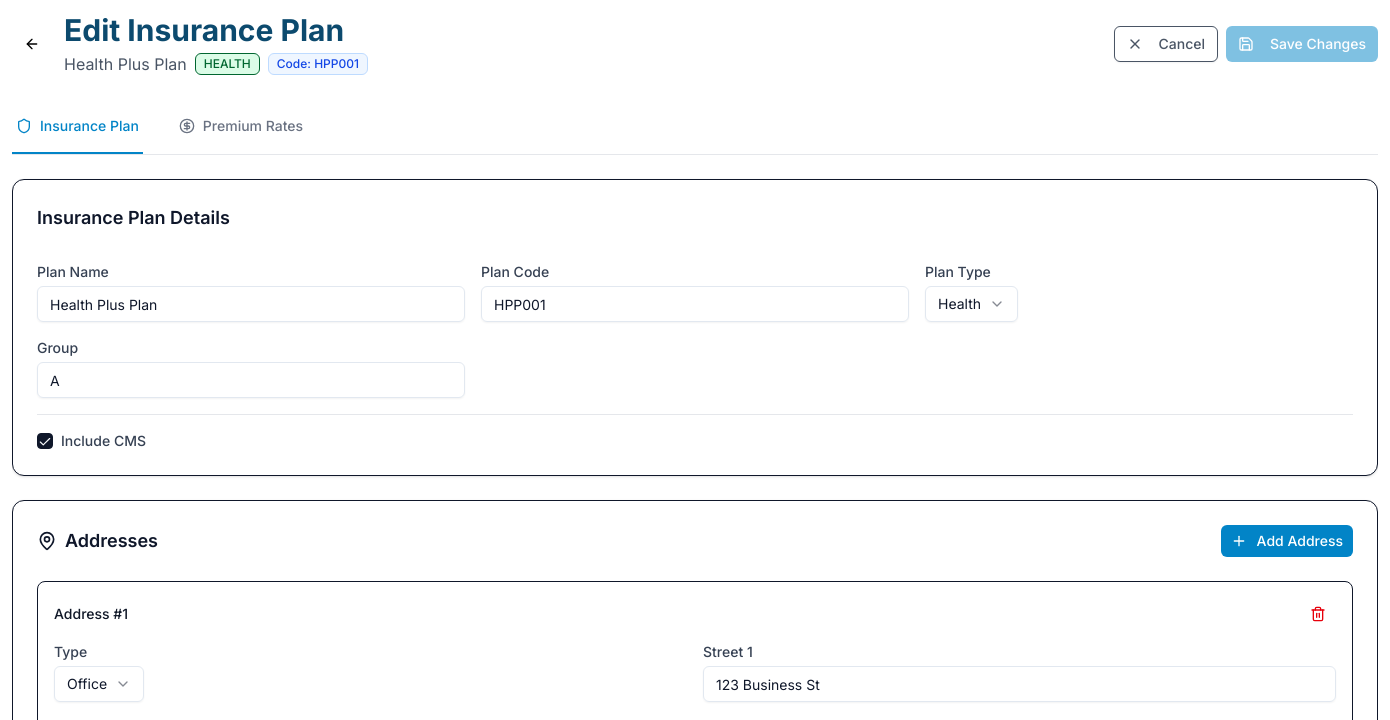
Test: InsurancePlanDetailPage › Save Functionality › should show success message after successful save
# Make a change and save
Replace the text in the field showing "Health Plus Plan" with "Premium Health Plan" at point(251, 304), box x1=37 y1=286 x2=465 y2=322
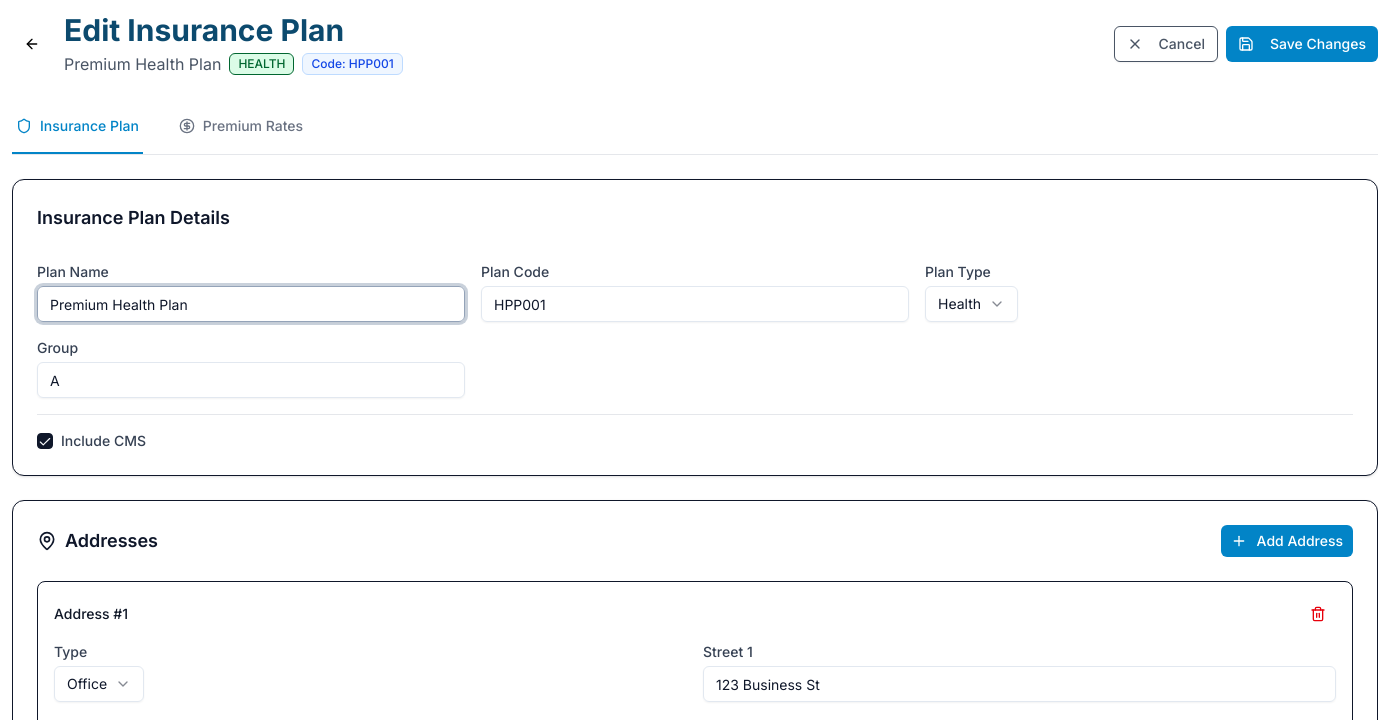
Check: the button "Save Changes" is enabled
Click the button "Save Changes" at point(1302, 44), box x1=1226 y1=26 x2=1378 y2=62
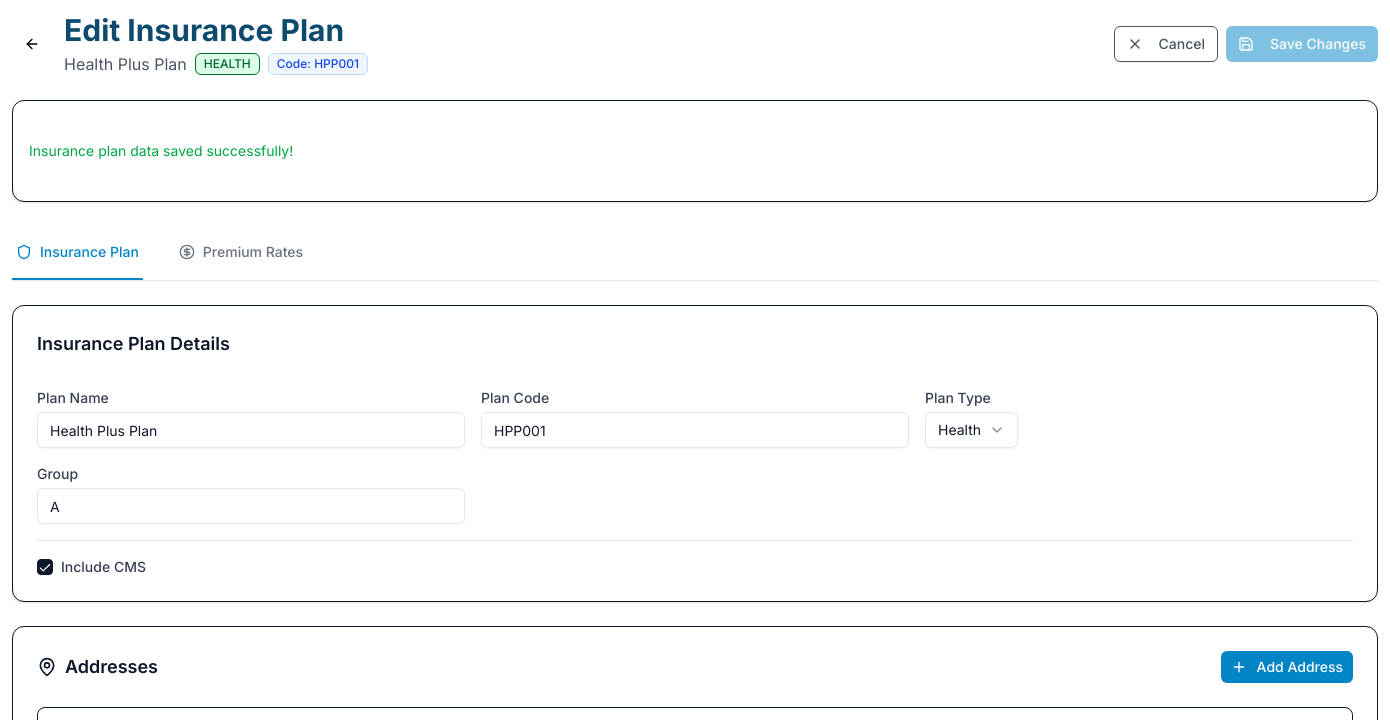
Check: the text "Insurance plan data saved successfully!" is shown, box x1=29 y1=142 x2=293 y2=159
